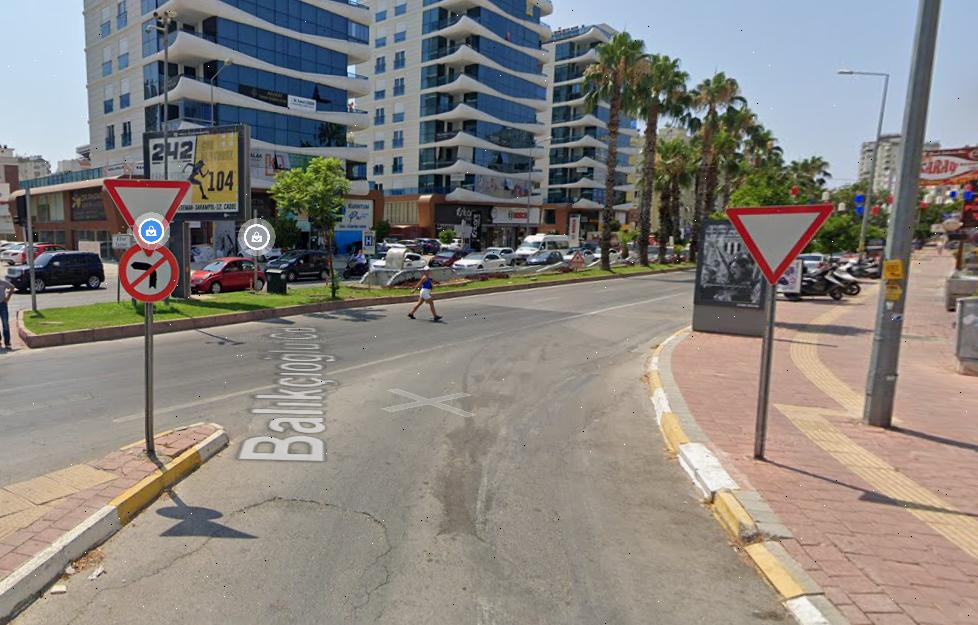rightturnsareforbidden: (122, 244, 176, 300)
